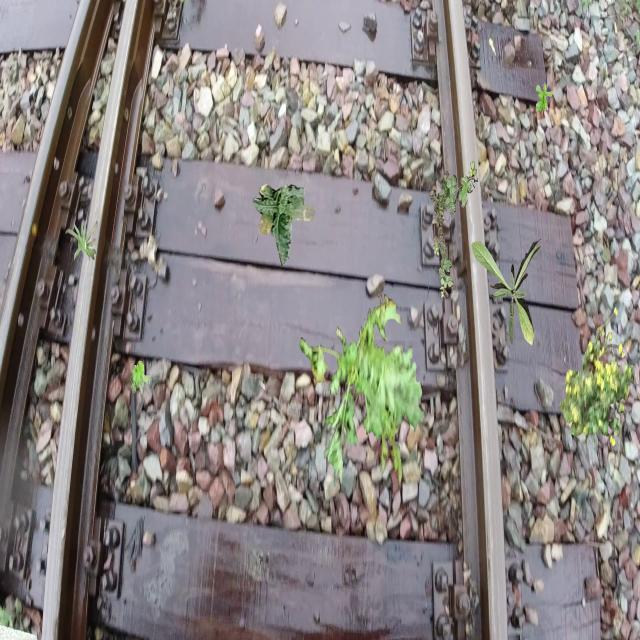Plant: (300, 292, 425, 488), (559, 307, 634, 447), (471, 239, 542, 347), (430, 161, 478, 299), (252, 184, 316, 267), (65, 215, 98, 261), (131, 361, 152, 394), (536, 83, 554, 115)
